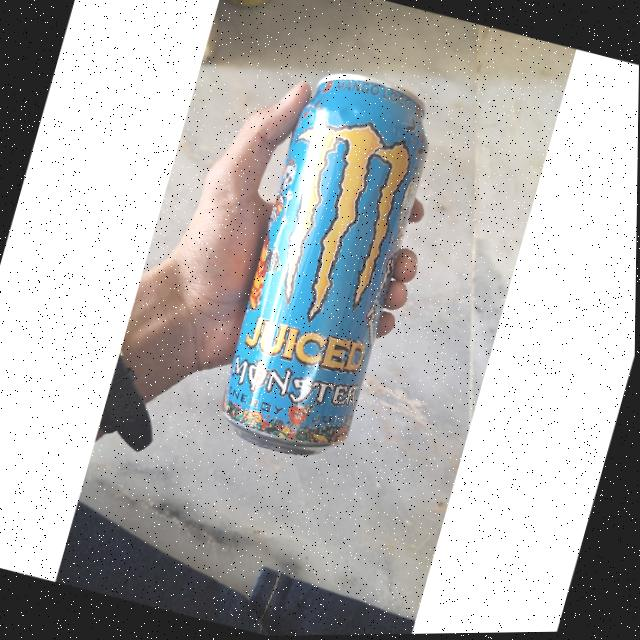Monster Mango Loco: (191, 58, 455, 477)
